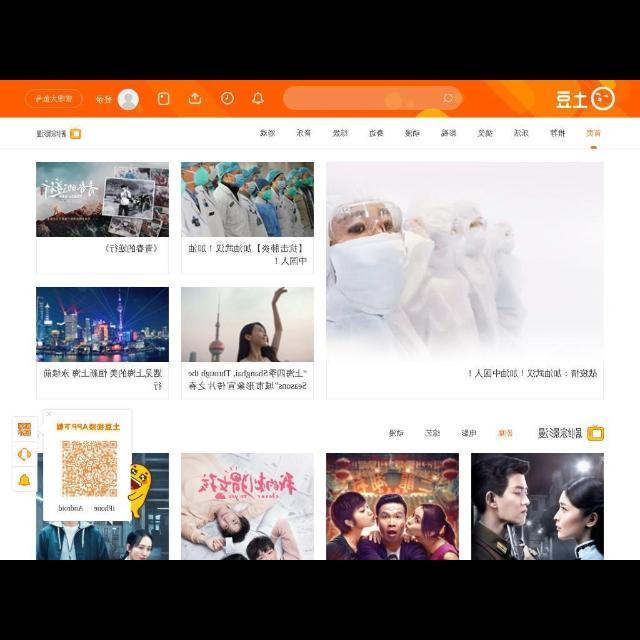icon: (61, 440, 118, 498), (590, 87, 614, 111), (221, 92, 235, 105), (188, 92, 202, 105), (252, 91, 264, 105), (158, 92, 170, 106), (18, 423, 30, 437), (18, 448, 30, 462), (18, 474, 30, 486), (442, 94, 453, 104), (46, 411, 52, 417)
image: (324, 162, 604, 400), (180, 454, 314, 560), (35, 453, 168, 559), (472, 453, 604, 559), (326, 453, 458, 559), (180, 162, 314, 238), (35, 162, 168, 238), (181, 288, 313, 362), (36, 288, 168, 362), (118, 90, 138, 110), (586, 425, 604, 441), (70, 127, 82, 139)
input: (282, 86, 462, 112)
multitab: (258, 129, 602, 139), (387, 428, 513, 438)
panel: (43, 410, 131, 522)
text: (187, 242, 307, 266), (187, 368, 307, 390), (42, 368, 162, 390), (467, 369, 597, 379), (537, 426, 583, 440), (555, 90, 587, 110), (105, 244, 157, 254), (56, 423, 120, 431), (35, 95, 73, 104), (35, 130, 67, 138), (94, 95, 112, 105), (586, 128, 602, 138), (550, 128, 566, 138), (513, 128, 529, 138), (477, 128, 493, 138), (368, 128, 384, 138), (259, 129, 275, 139), (497, 428, 513, 438), (461, 428, 477, 438), (424, 428, 440, 438), (388, 428, 404, 438), (57, 506, 83, 512), (403, 130, 421, 138), (94, 506, 116, 512), (440, 130, 456, 138), (332, 130, 348, 138), (296, 130, 312, 138)
toolbar: (1, 80, 640, 118)
